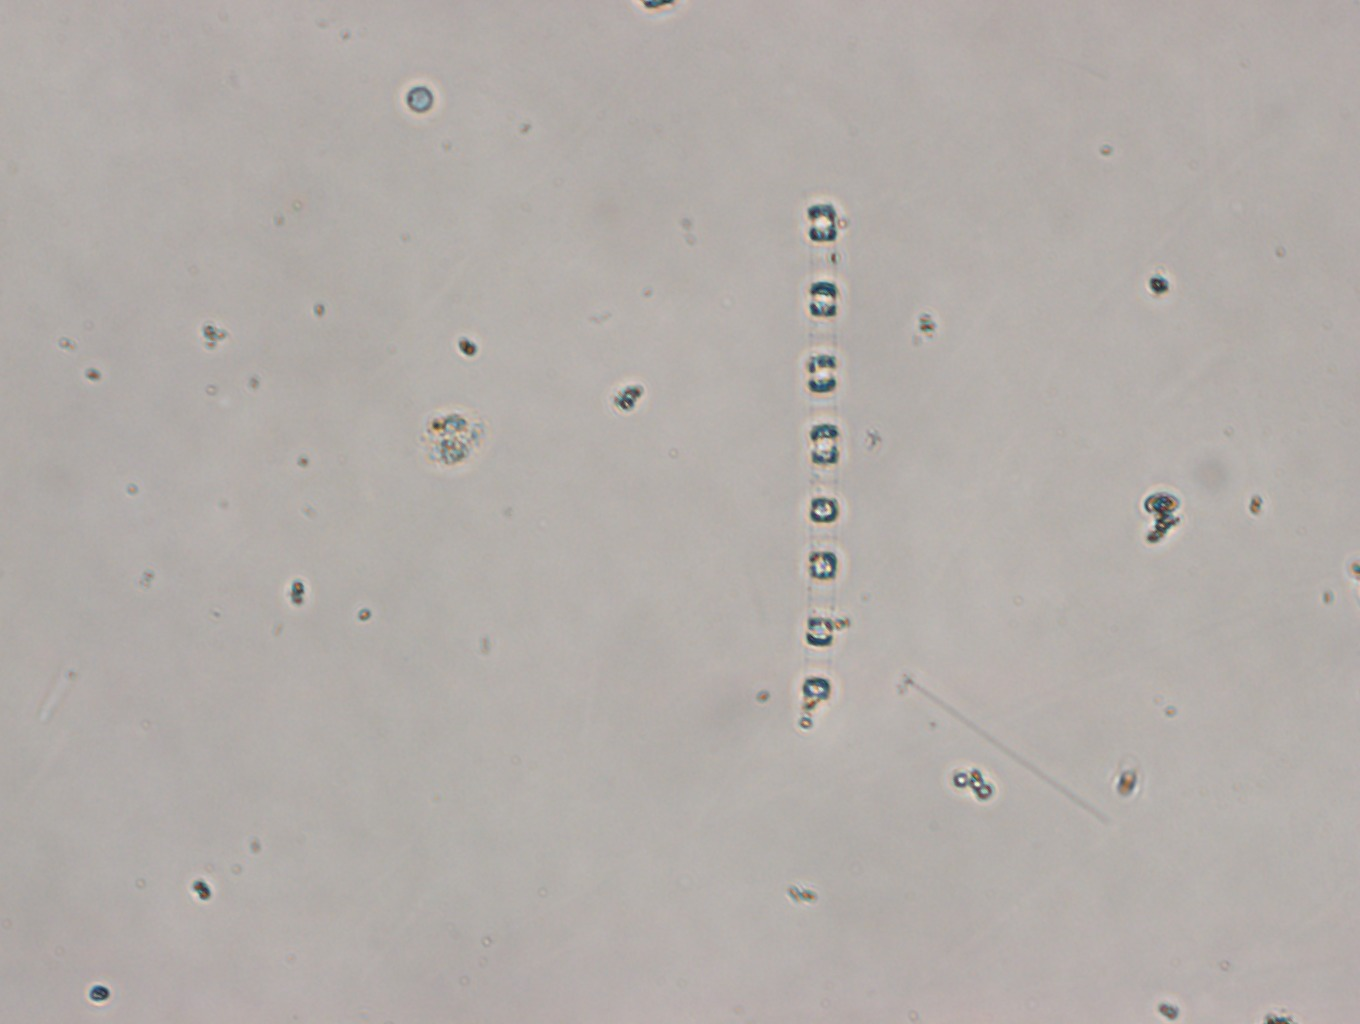skeletonema: (802, 196, 839, 712)
